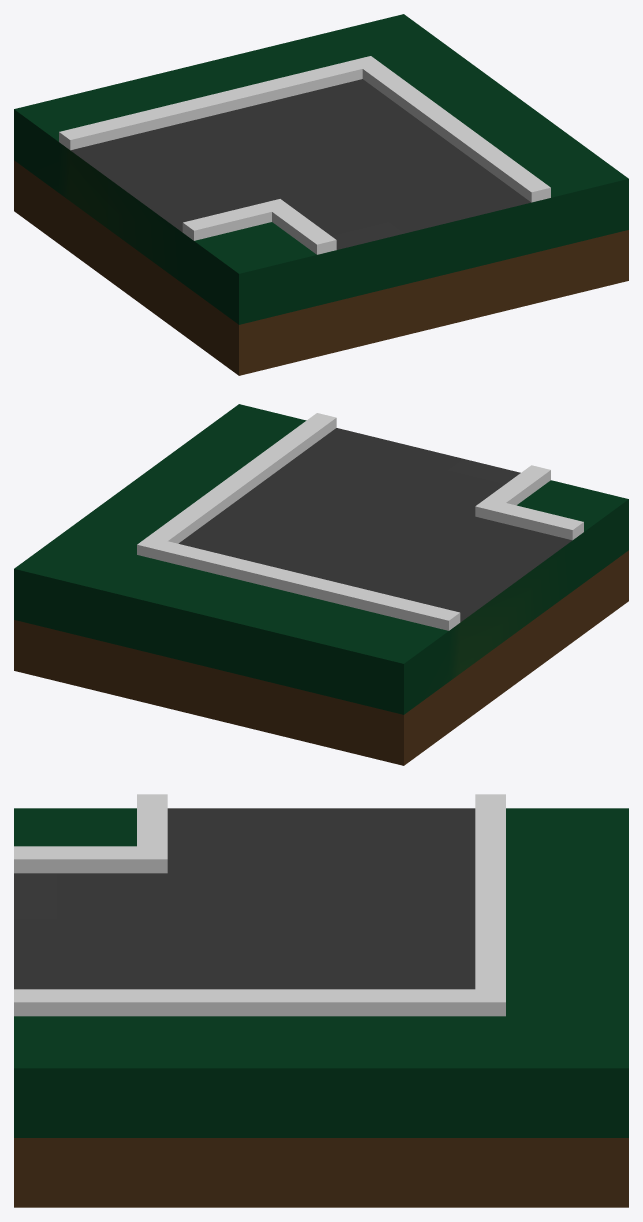
File: Block_3.fbx
3 renders of one model, top to bottom at view 1: azimuth 30°, elevation 25°; view 2: azimuth 150°, elevation 25°; view 3: azimuth 270°, elevation 25°, orthographic. The views are drawn at different scales.
Parts seen in each view (by area): view 1: Block_3; view 2: Block_3; view 3: Block_3.
Part boxes in pixels (x1,y1,x2,y2): Block_3: [14, 14, 628, 375]; Block_3: [14, 404, 628, 765]; Block_3: [14, 794, 628, 1207].
Bounding box in the file's own units: 400 × 110 × 400.
